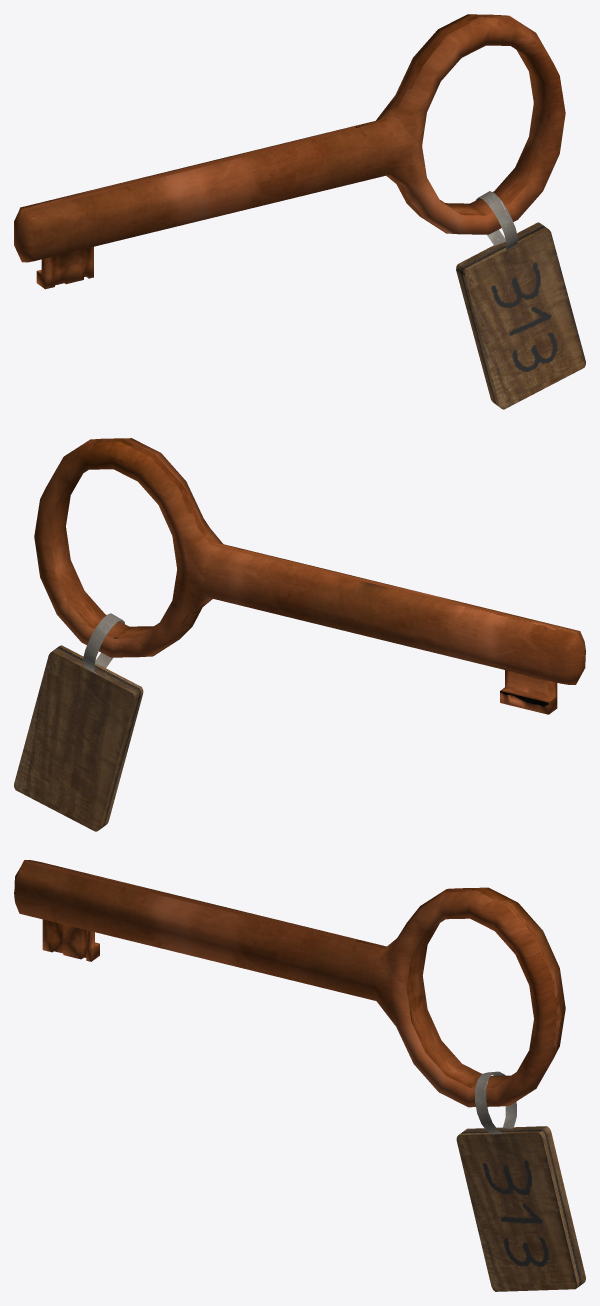
The model's file is KeyWNote.fbx.
The picture shows the model from 3 angles, top to bottom: view 1: azimuth 30°, elevation 25°; view 2: azimuth 150°, elevation 25°; view 3: azimuth 330°, elevation 25°; orthographic projection.
Parts seen in each view (by area): view 1: Cylinder; view 2: Cylinder; view 3: Cylinder.
Boxes of the visible parts, left/top/right/bottom form: Cylinder: left=14, top=14, right=585, bottom=409; Cylinder: left=14, top=438, right=585, bottom=831; Cylinder: left=14, top=860, right=585, bottom=1291.
Bounding box in the file's own units: 271 × 181 × 21.95.
Materials: 1 (1 with a texture image).
